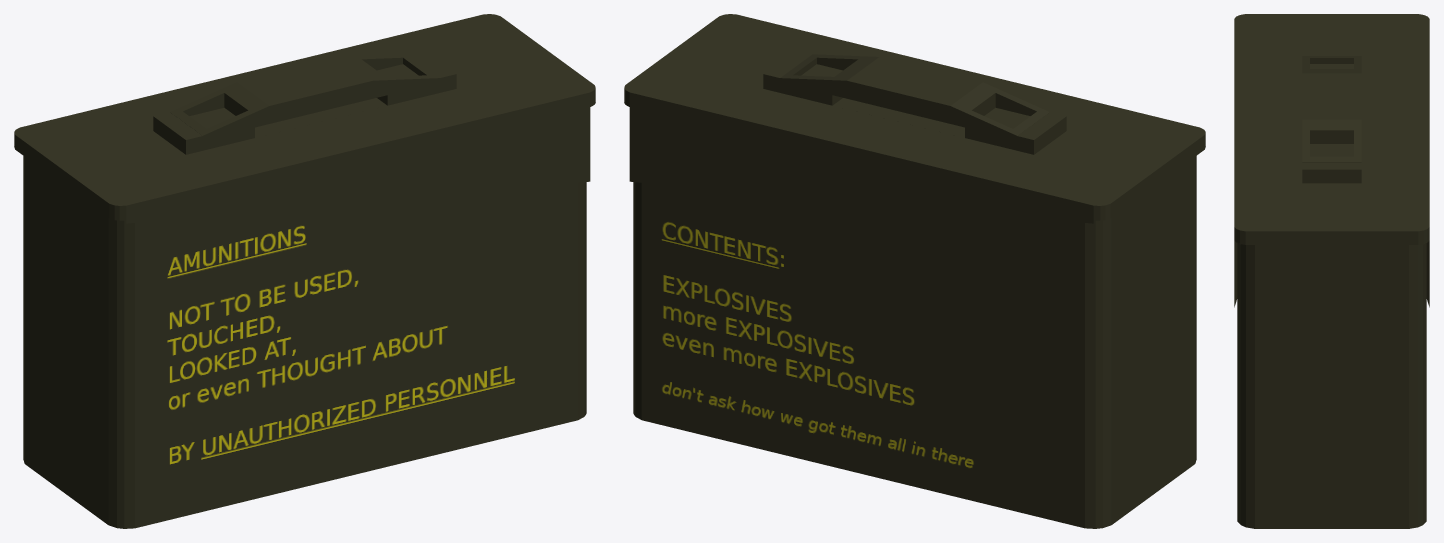
Rendered from AmmoBox.fbx.
3 renders of one model, left to right at view 1: azimuth 30°, elevation 25°; view 2: azimuth 150°, elevation 25°; view 3: azimuth 270°, elevation 25°, orthographic. The views are drawn at different scales.
Parts seen in each view (by area): view 1: ammobox; view 2: ammobox; view 3: ammobox.
Boxes of the visible parts, x1,y1,x2,y2 form: ammobox: [14, 14, 595, 528]; ammobox: [624, 14, 1205, 528]; ammobox: [1234, 14, 1429, 528].
Bounding box in the file's own units: 81.51 × 56.95 × 30.99.
Materials: 1 (1 with a texture image).
